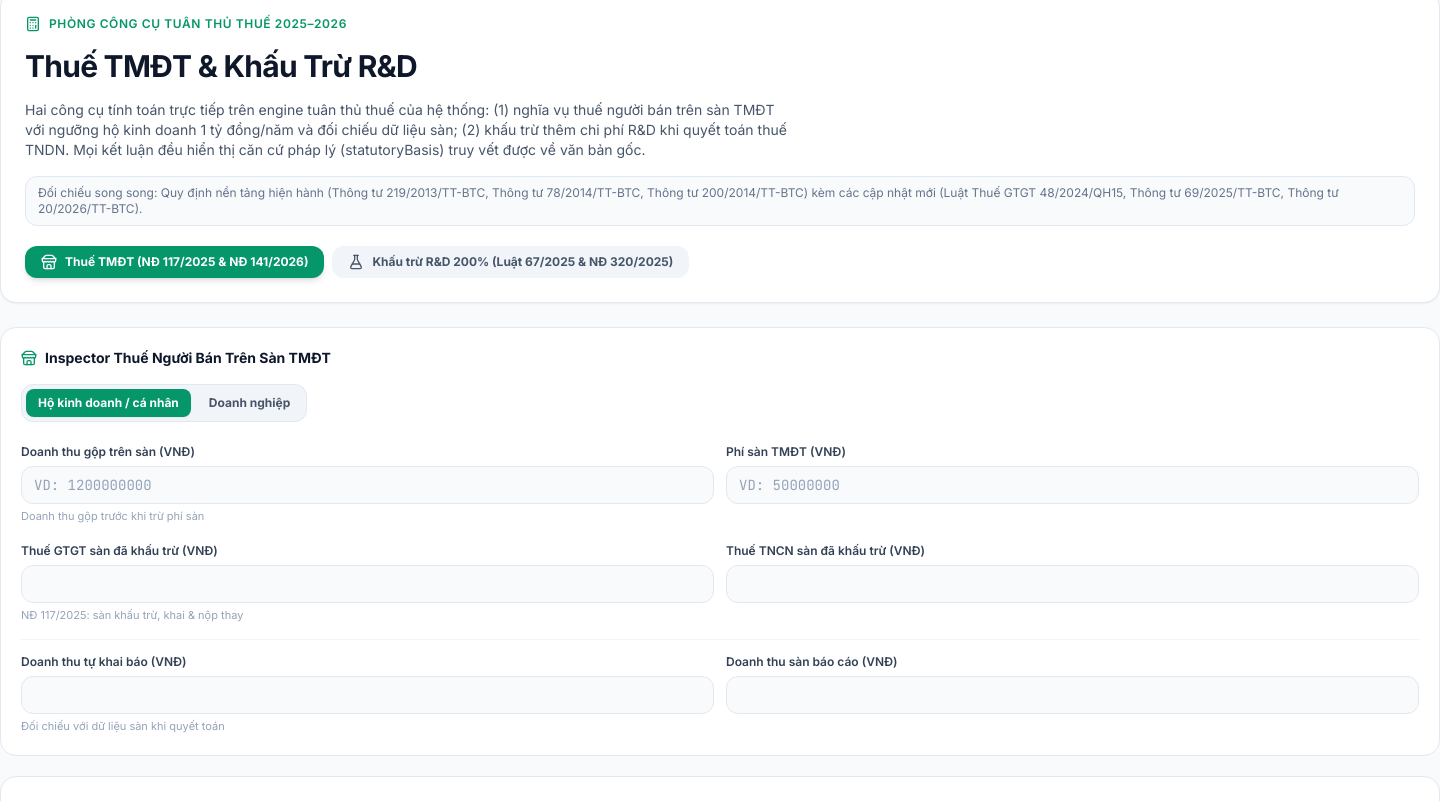
TAX COMPLIANCE TOOLS UI WRAPPER › R&D calculator: 200% deduction on 5B MOST-approved expenses, CIT saved x 20%, B4 reference and statutory basis
Step 1. Click the button with test id "tool-tab-rd" → (511, 262), box [332,246,689,278]
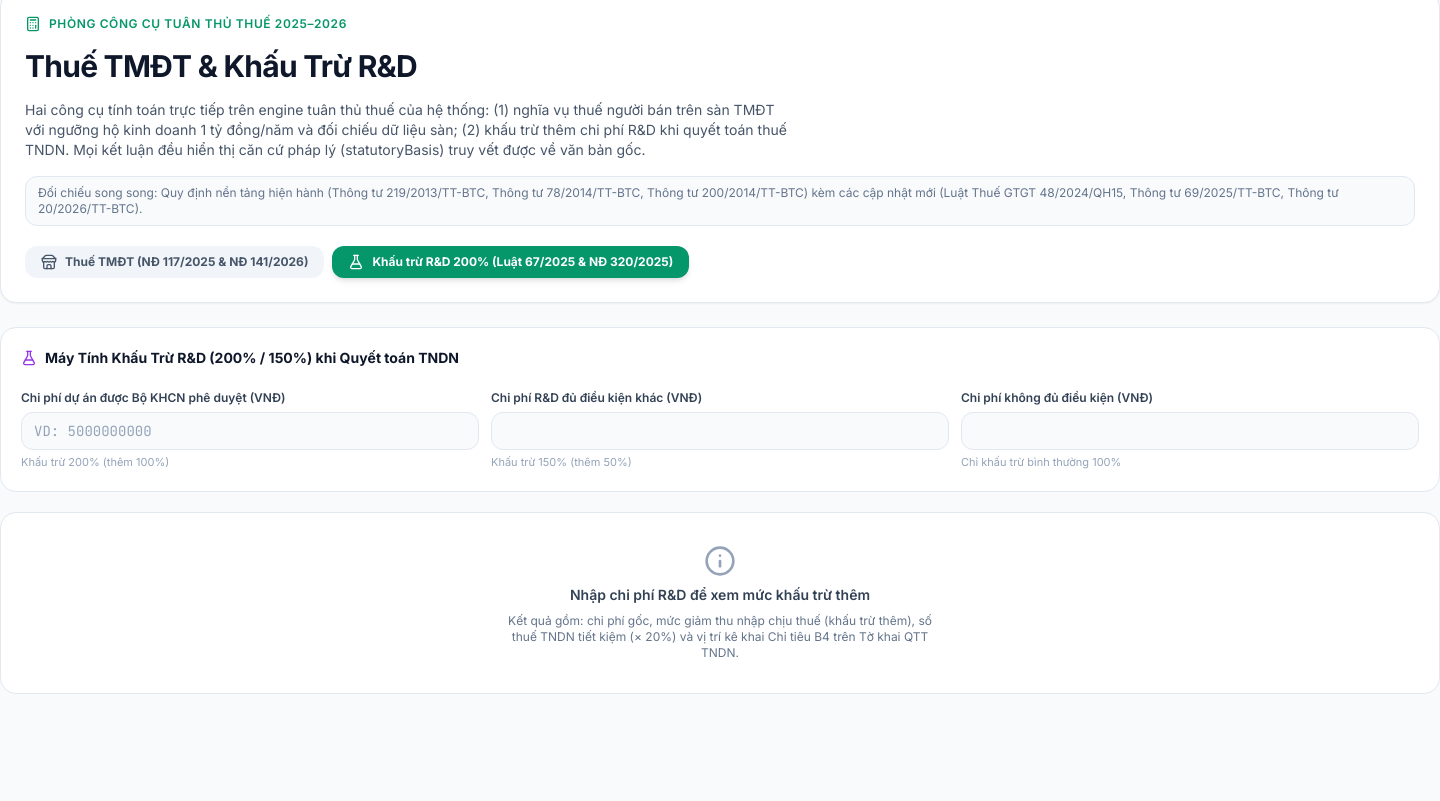
Expected: the element with test id "rd-empty-state" is shown, [0,512,1439,694]
Step 2. Type "5000000000" into the 1st number field → (250, 431), box [21,412,479,450]
(page scrolled)
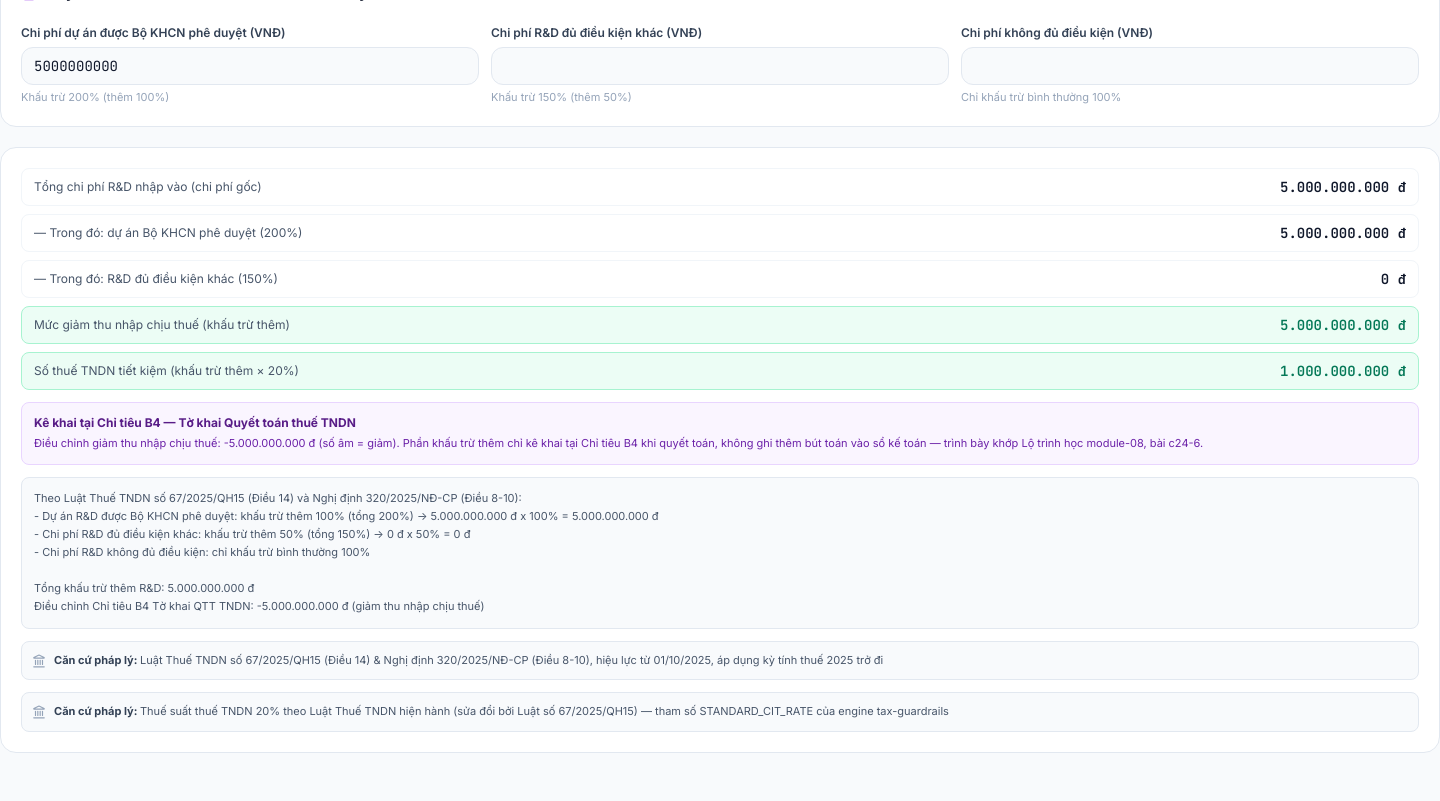
Expected: the text with test id "rd-additional-deduction" shows "5.000.000.000", [1280,316,1406,334]
Expected: the text with test id "rd-cit-saved" shows "1.000.000.000", [1280,362,1406,380]
Expected: the element with test id "rd-b4-reference" shows "Chỉ tiêu B4", [34,414,356,430]
